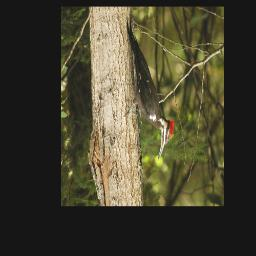Woodpecker: (122, 16, 175, 161)
